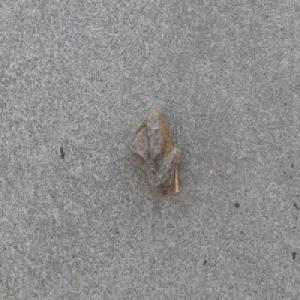Rock: (124, 100, 181, 199)
